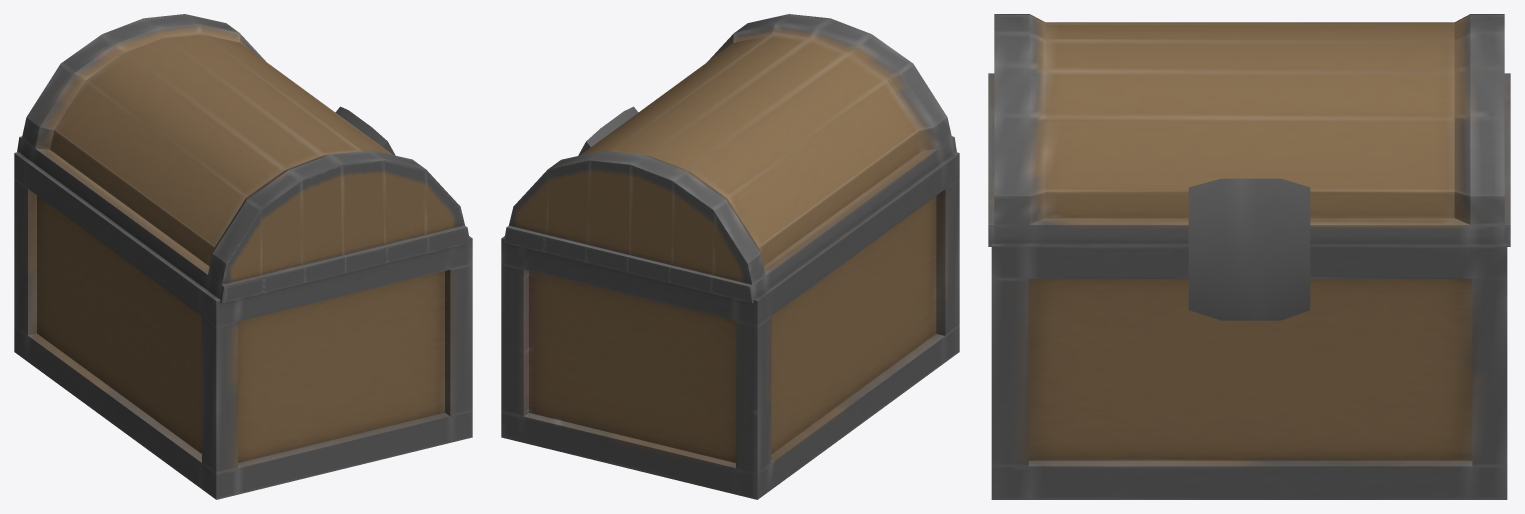
File: ChestPieces.fbx
The picture shows the model from 3 angles, left to right: view 1: azimuth 30°, elevation 25°; view 2: azimuth 150°, elevation 25°; view 3: azimuth 270°, elevation 25°; orthographic projection. The views are drawn at different scales.
Parts seen in each view (by area): view 1: polySurface3, polySurface2, polySurface1; view 2: polySurface3, polySurface2, polySurface1; view 3: polySurface3, polySurface2, polySurface1.
Boxes of the visible parts, x1,y1,x2,y2 form: polySurface3: (14, 152, 472, 499); polySurface2: (17, 14, 469, 303); polySurface1: (335, 106, 395, 155); polySurface3: (501, 152, 959, 499); polySurface2: (504, 14, 956, 303); polySurface1: (578, 106, 638, 155); polySurface3: (991, 243, 1507, 499); polySurface2: (988, 14, 1510, 246); polySurface1: (1188, 178, 1310, 320).
Bounding box in the file's own units: 3.25 × 3.51 × 4.3.
